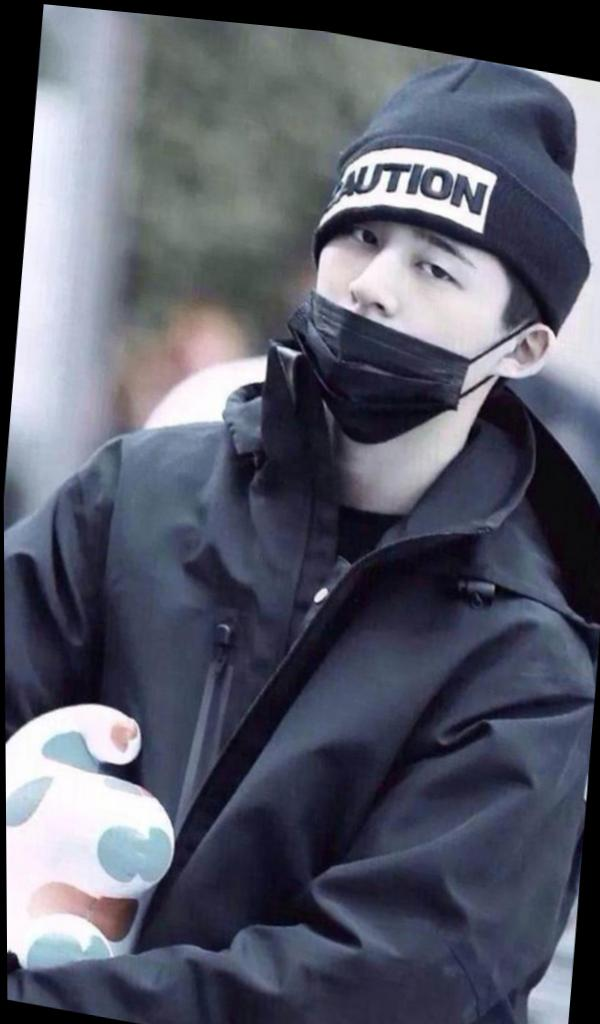WRONG: (290, 183, 535, 445)
